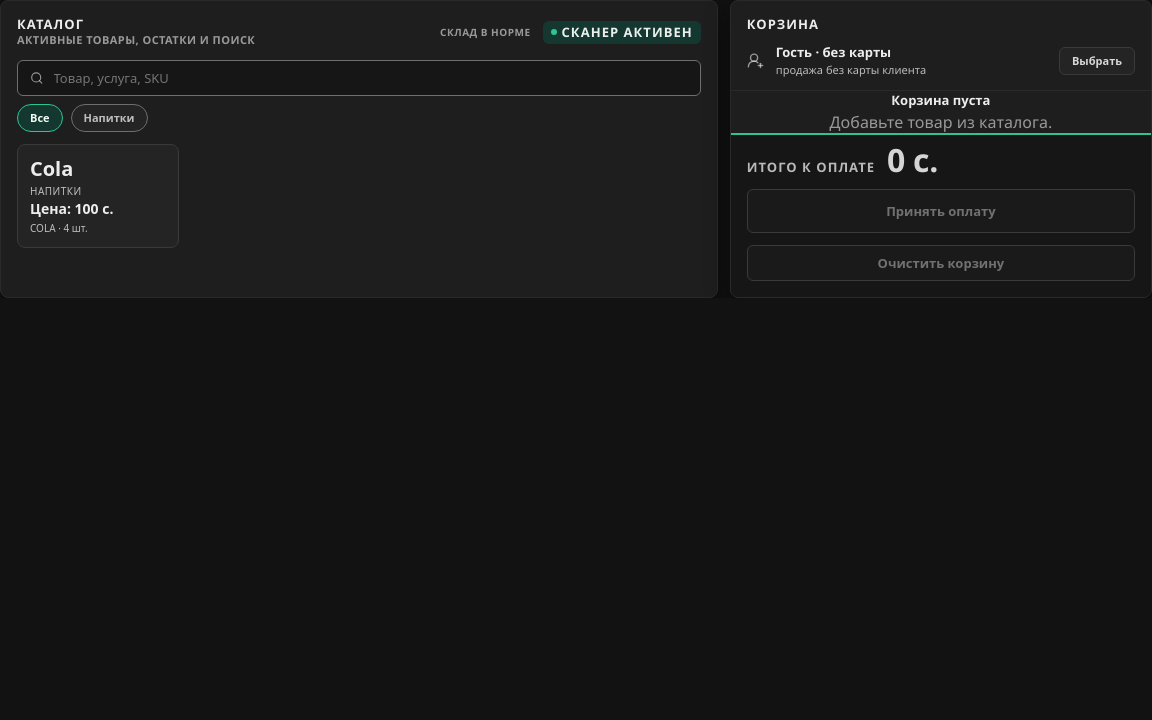
BackendPosWorkspace › называет причину, когда части оплаты в разных валютах
The width and height of the screenshot is (1152, 720).
Click the button "Cola Напитки Цена: 100 с. COLA · 4 шт." at (98, 196), box [17,144,179,248]
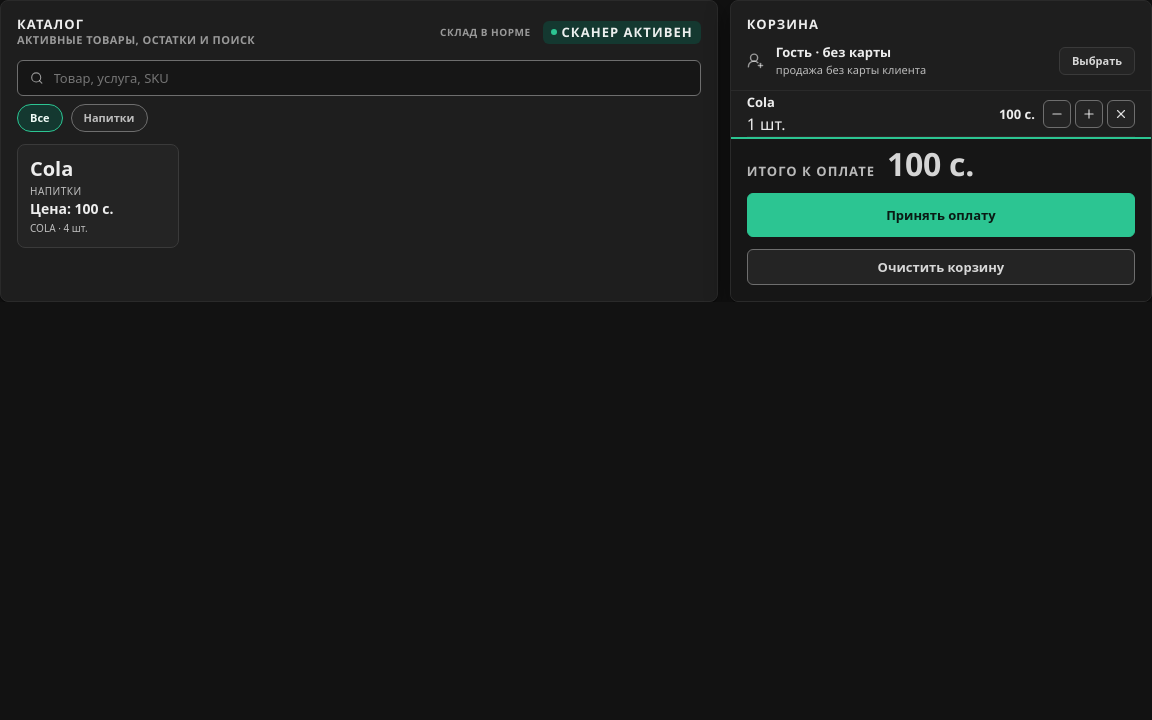
Click the button "Принять оплату" at (941, 215), box [747,193,1135,237]
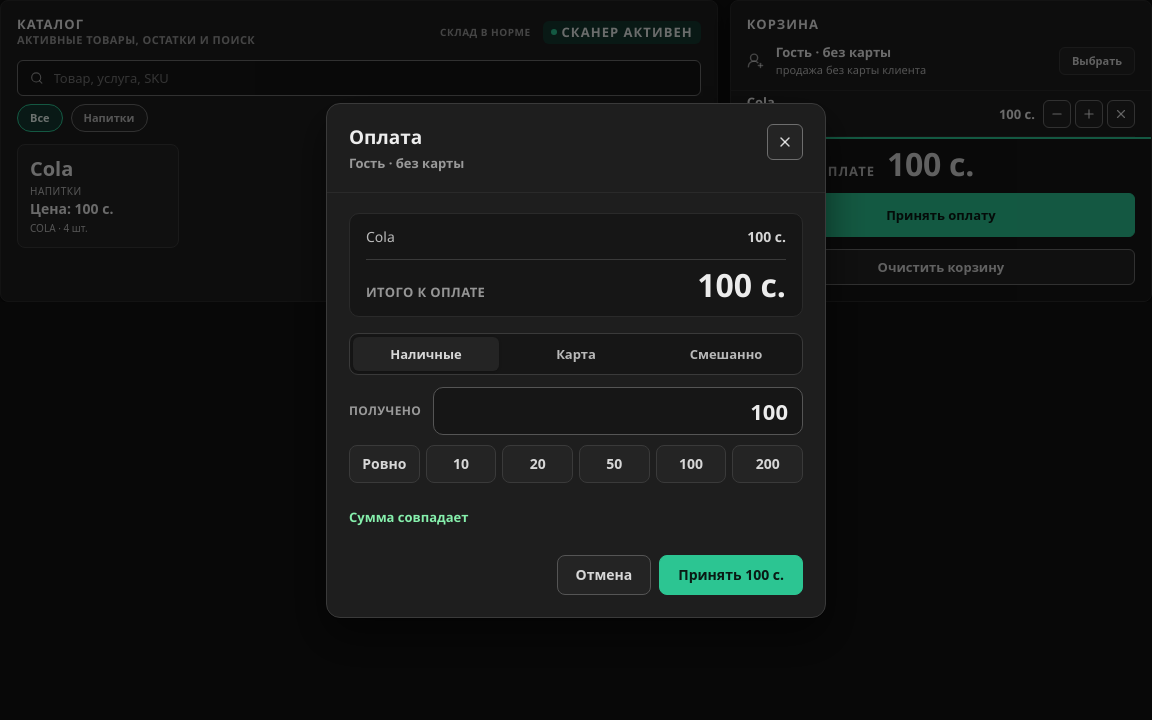
Click the button "Принять 100 с." at (731, 574), box [659,554,803,594]
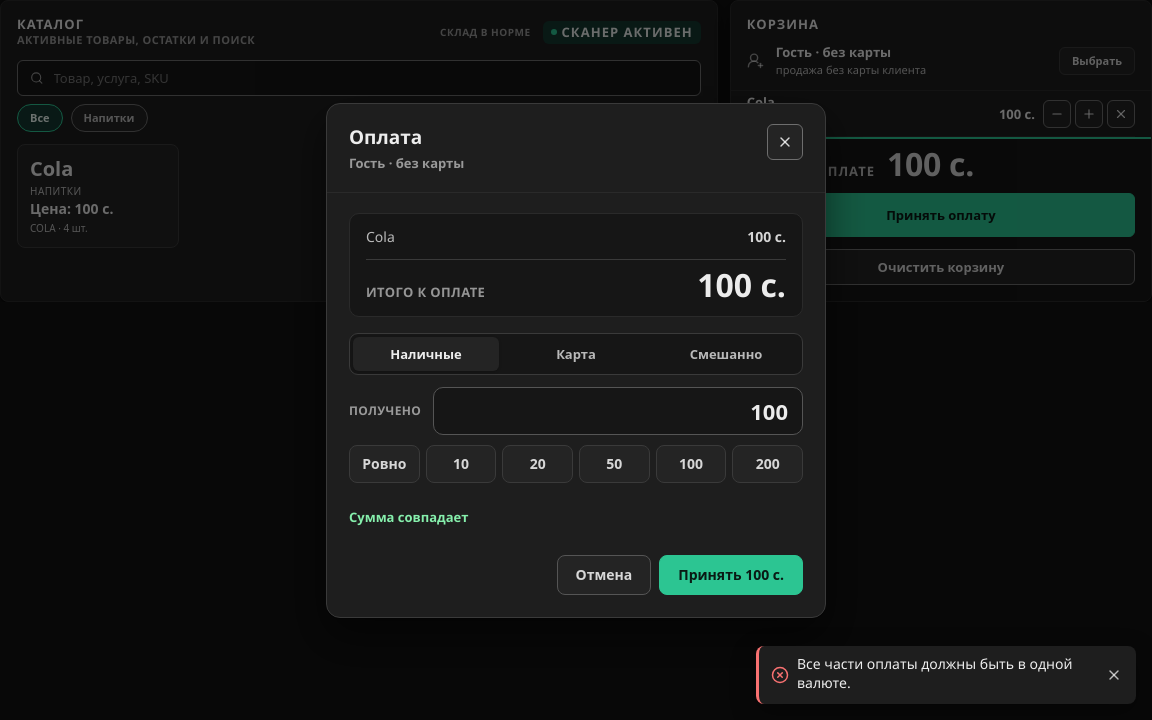
Expected: the text "Все части оплаты должны быть в одной валюте." is shown, [797,656,1096,694]
